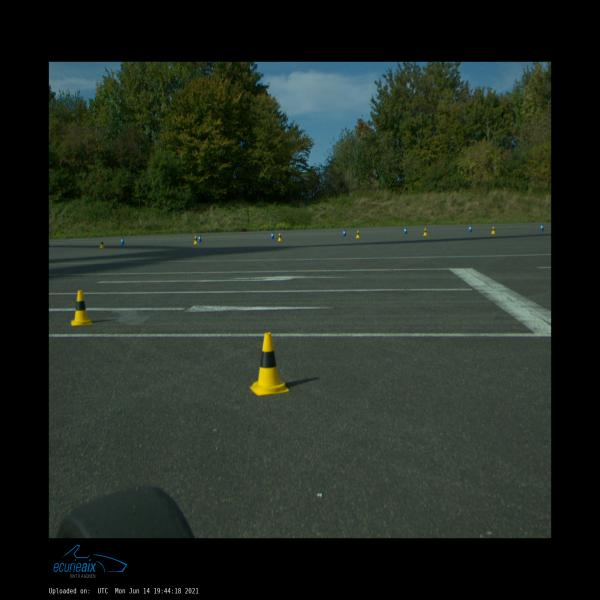blue_cone: (120, 237, 125, 244), (198, 234, 202, 242), (540, 224, 544, 231), (270, 231, 274, 238), (468, 226, 472, 232), (404, 227, 407, 234), (343, 229, 346, 236)
yellow_cone: (250, 332, 289, 396), (71, 290, 93, 326), (193, 236, 198, 245), (100, 239, 105, 248), (278, 232, 282, 241), (423, 228, 428, 235), (356, 230, 360, 238), (492, 227, 496, 234)
